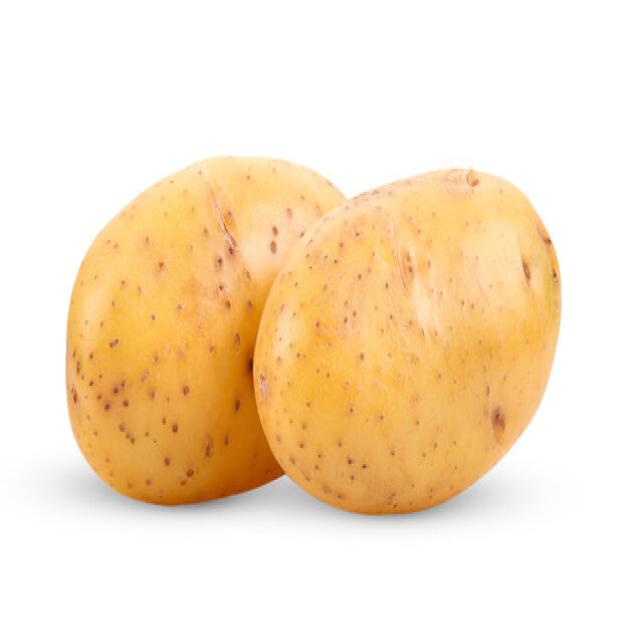Potato: (252, 165, 562, 516), (64, 153, 347, 505)
